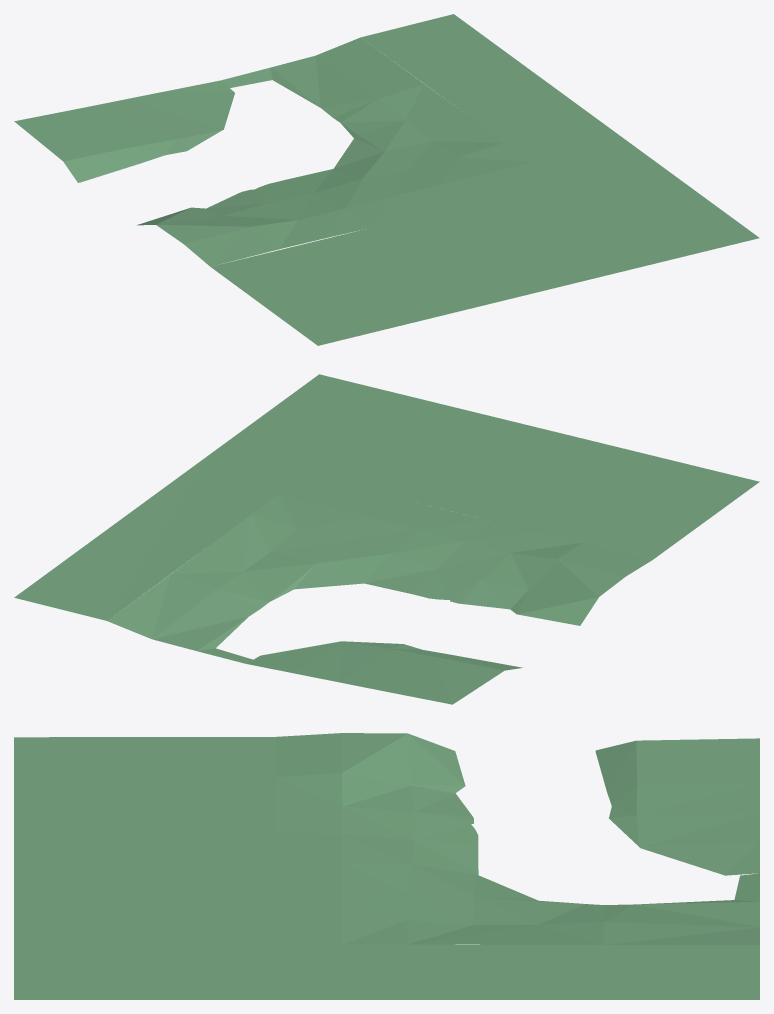
Rendered from ground.obj.
3 views of the same model, one above another, from view 1: azimuth 30°, elevation 25°; view 2: azimuth 150°, elevation 25°; view 3: azimuth 270°, elevation 25° (orthographic). The views are drawn at different scales.
Visible parts, largest first — view 1: Ground.003_Grid.004, Ground.002_Grid.003, Ground.001_Grid.002, Ground.006_Grid.007, Ground.014_Grid.014, Ground.005_Grid.006, Ground.004_Grid.005, Ground_Grid.008; view 2: Ground.003_Grid.004, Ground.002_Grid.003, Ground.001_Grid.002, Ground.006_Grid.007, Ground.005_Grid.006, Ground.014_Grid.014, Ground.004_Grid.005, Ground_Grid.008; view 3: Ground.003_Grid.004, Ground.002_Grid.003, Ground.001_Grid.002, Ground.006_Grid.007, Ground.014_Grid.014, Ground.005_Grid.006, Ground.004_Grid.005, Ground_Grid.008.
Part boxes in pixels (left/top/right/bottom): Ground.003_Grid.004: left=211, top=205, right=572, bottom=345; Ground.002_Grid.003: left=466, top=159, right=759, bottom=283; Ground.001_Grid.002: left=361, top=14, right=651, bottom=181; Ground.006_Grid.007: left=221, top=37, right=504, bottom=178; Ground.014_Grid.014: left=14, top=80, right=234, bottom=182; Ground.005_Grid.006: left=156, top=179, right=418, bottom=266; Ground.004_Grid.005: left=362, top=142, right=558, bottom=215; Ground_Grid.008: left=137, top=169, right=361, bottom=225; Ground.003_Grid.004: left=398, top=419, right=759, bottom=559; Ground.002_Grid.003: left=212, top=374, right=504, bottom=497; Ground.001_Grid.002: left=14, top=453, right=304, bottom=620; Ground.006_Grid.007: left=107, top=515, right=389, bottom=663; Ground.005_Grid.006: left=390, top=509, right=652, bottom=596; Ground.014_Grid.014: left=246, top=641, right=522, bottom=704; Ground.004_Grid.005: left=251, top=475, right=443, bottom=553; Ground_Grid.008: left=364, top=554, right=598, bottom=625; Ground.003_Grid.004: left=14, top=737, right=276, bottom=888; Ground.002_Grid.003: left=14, top=889, right=276, bottom=999; Ground.001_Grid.002: left=276, top=944, right=759, bottom=999; Ground.006_Grid.007: left=407, top=864, right=759, bottom=945; Ground.014_Grid.014: left=595, top=738, right=759, bottom=875; Ground.005_Grid.006: left=276, top=733, right=413, bottom=864; Ground.004_Grid.005: left=276, top=861, right=411, bottom=944; Ground_Grid.008: left=408, top=733, right=478, bottom=875.
Size of the model in its own units: 87.35 by 3.17 by 105.
1 material, 1 textured.
